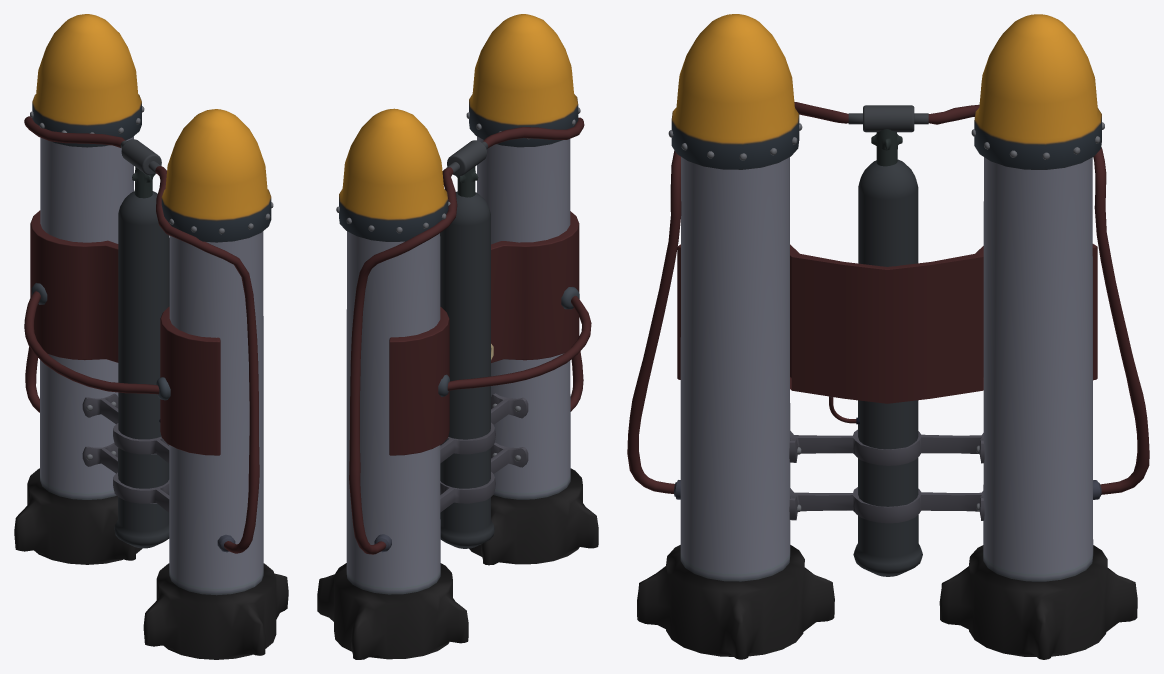
File: JetPack.fbx
3 renders of one model, left to right at view 1: azimuth 30°, elevation 25°; view 2: azimuth 150°, elevation 25°; view 3: azimuth 270°, elevation 25°, orthographic. The views are drawn at different scales.
Parts seen in each view (by area): view 1: node_id30; view 2: node_id30; view 3: node_id30.
Boxes of the visible parts, x1,y1,x2,y2 form: node_id30: (14,14,288,659); node_id30: (317,14,598,659); node_id30: (627,14,1149,659).
Bounding box in the file's own units: 0.1871 × 0.512 × 0.3966.
1 material, 1 textured.
